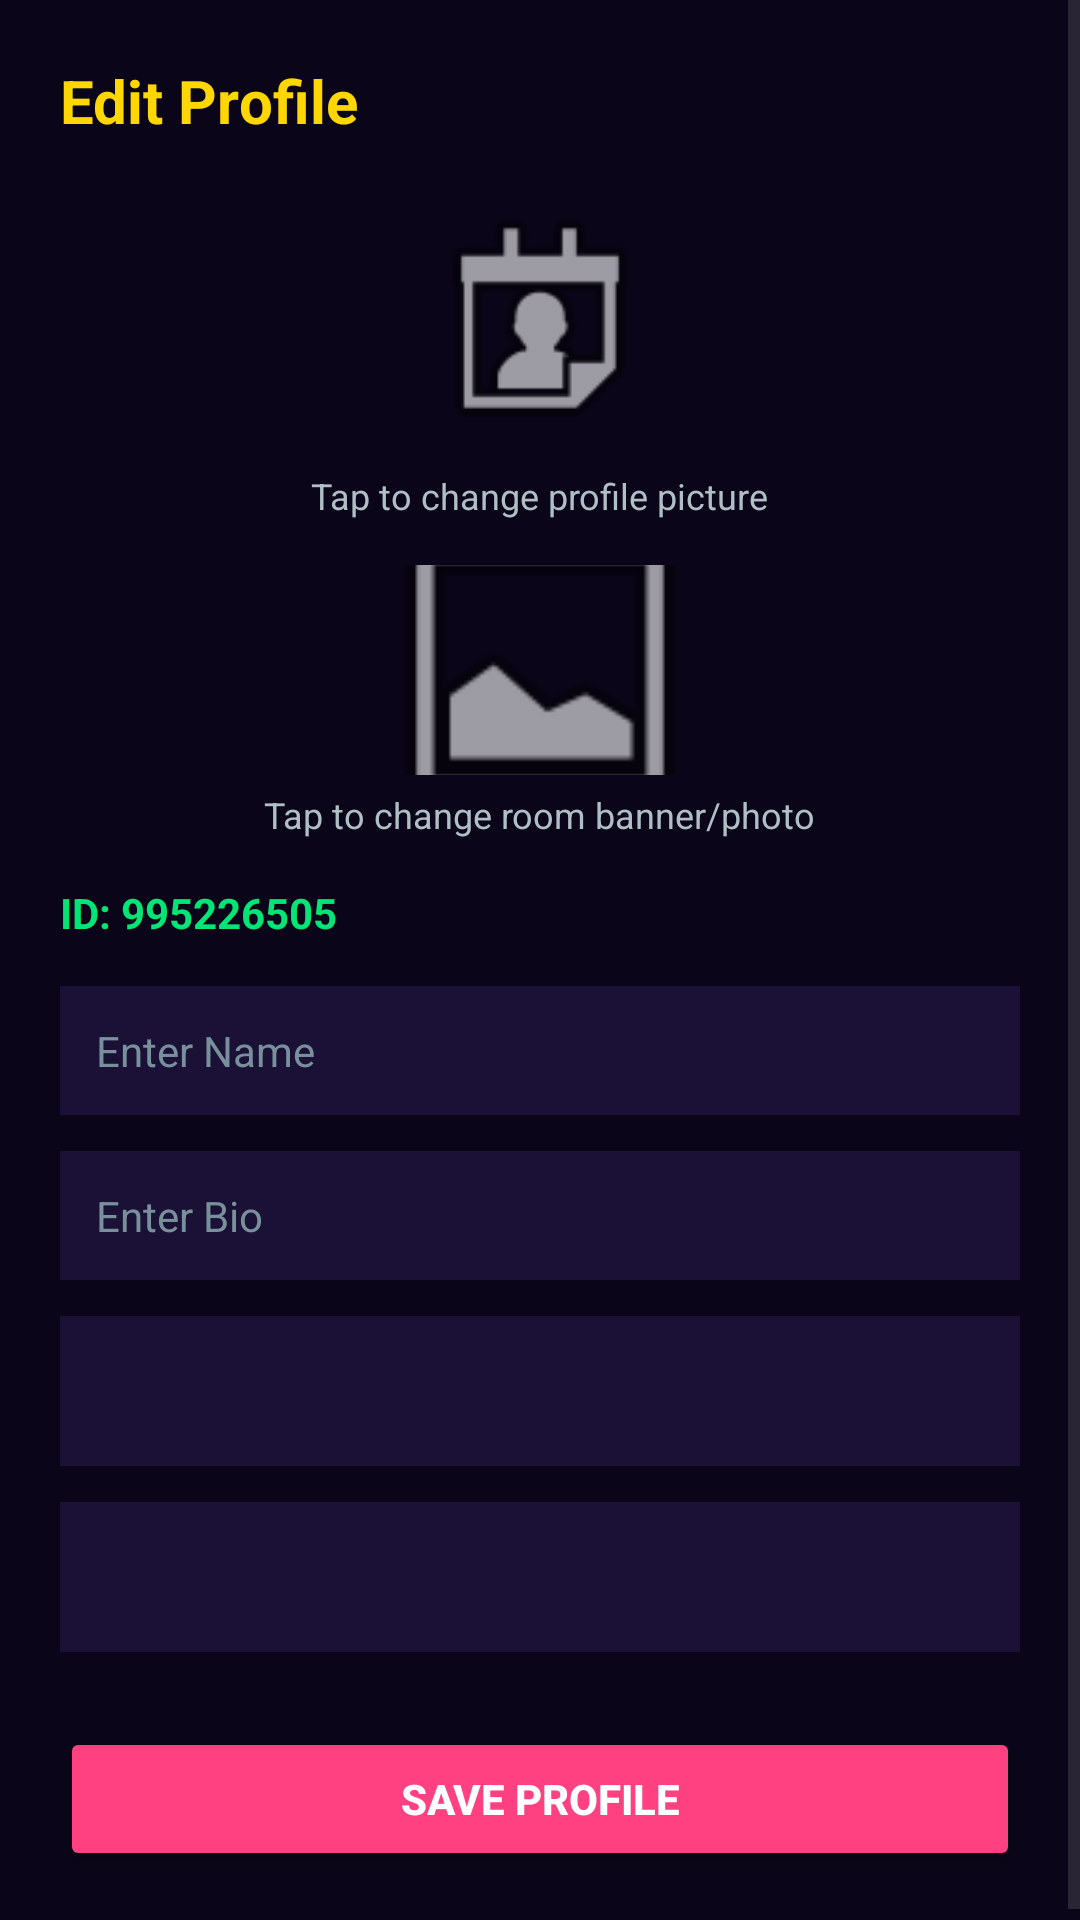

Screen size 1080*1920. Icon name, then its center in pixels as (x=x, y=y):
calendar: (x=540, y=318)
gallery: (x=540, y=670)
